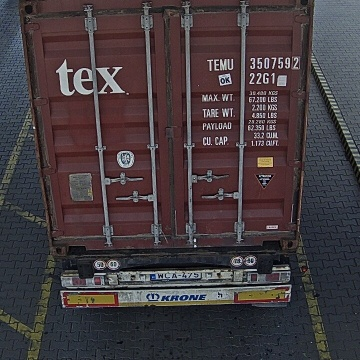serial_id: (207, 57, 300, 70)
